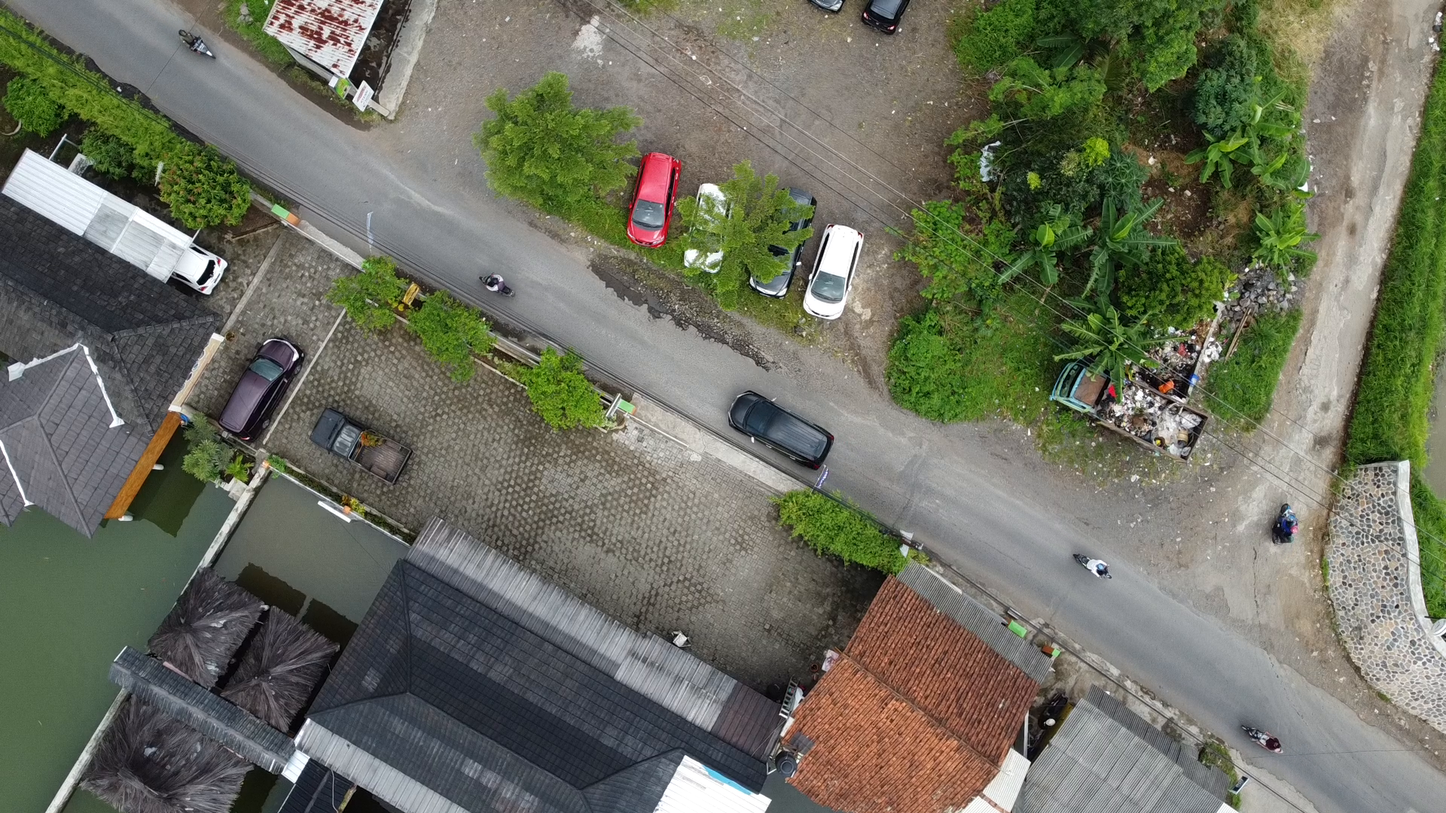mobil: (721, 383, 844, 478), (206, 321, 305, 439), (753, 169, 825, 305), (300, 404, 421, 483), (616, 147, 685, 262), (816, 209, 868, 345), (683, 173, 740, 282), (166, 235, 228, 294)
